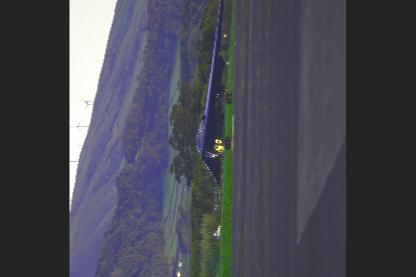B1: (196, 0, 232, 186)
